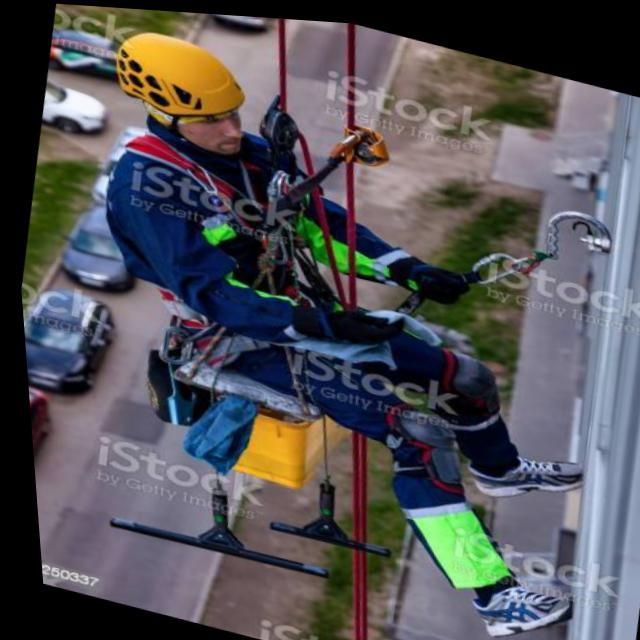belt: (72, 109, 399, 444)
